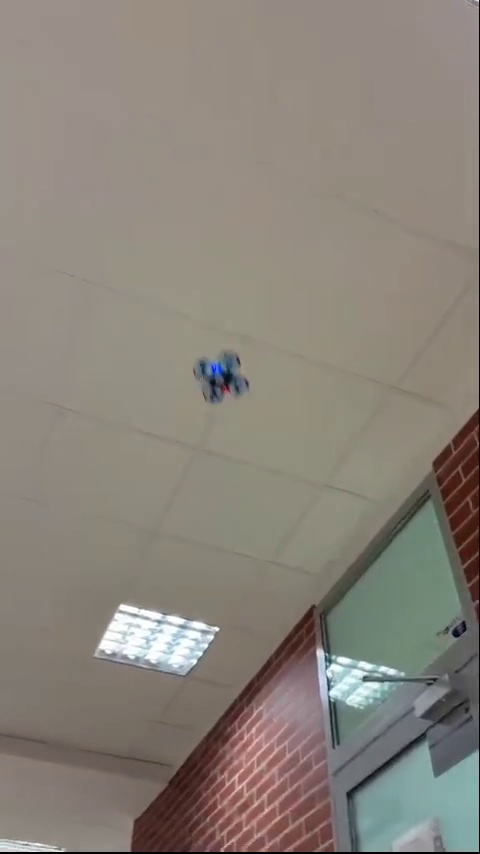drone: (191, 352, 246, 400)
